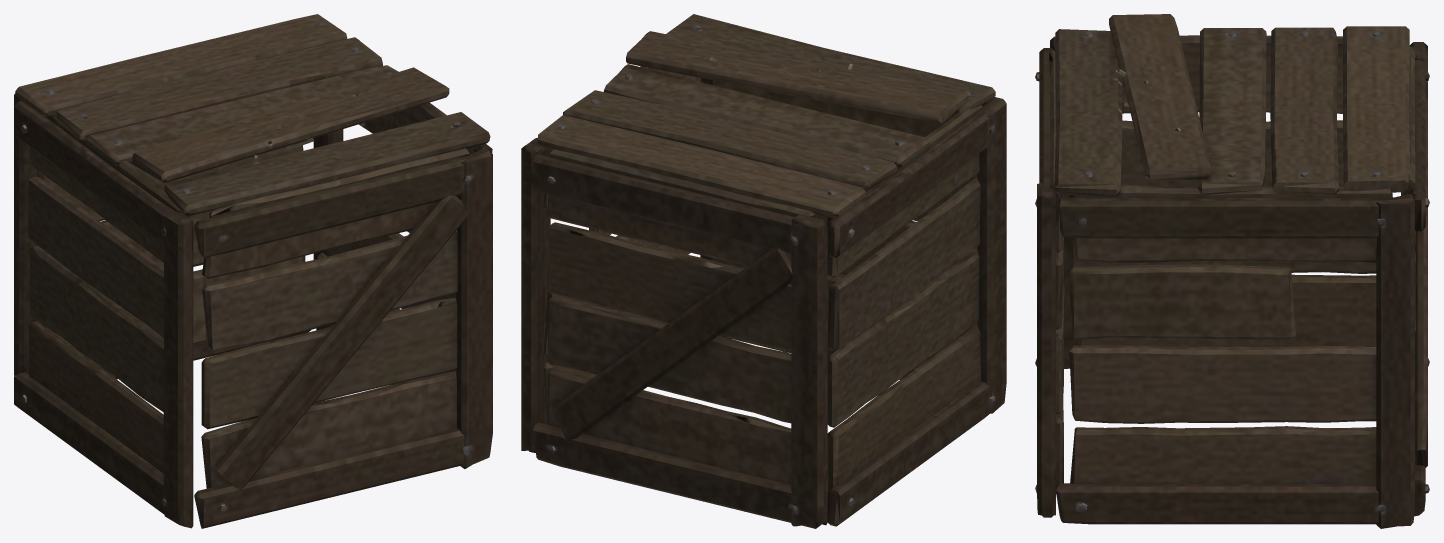
File: crate.glb
3 views of the same model, side by side, from view 1: azimuth 30°, elevation 25°; view 2: azimuth 150°, elevation 25°; view 3: azimuth 270°, elevation 25° (orthographic). The views are drawn at different scales.
Parts seen in each view (by area): view 1: crate; view 2: crate; view 3: crate.
Part boxes in pixels (box(x1,y1,x2,y2)): crate: box(14, 14, 492, 528); crate: box(521, 14, 1006, 528); crate: box(1035, 14, 1429, 528).
Bounding box in the file's own units: 0.7134 × 0.7195 × 0.7134.
1 material, 1 textured.
